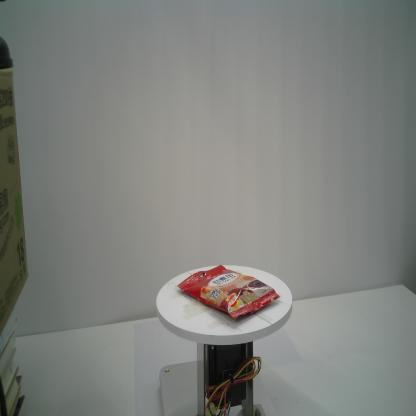Instant Drink: (177, 264, 282, 321)
